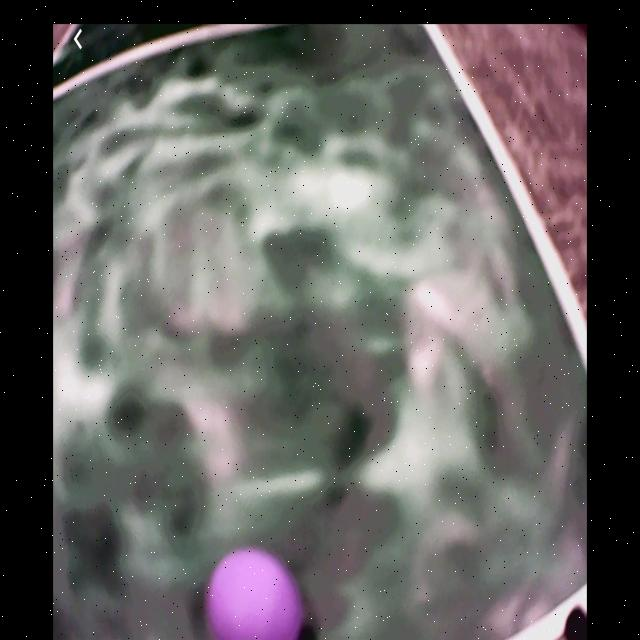ball: (208, 550, 302, 640)
